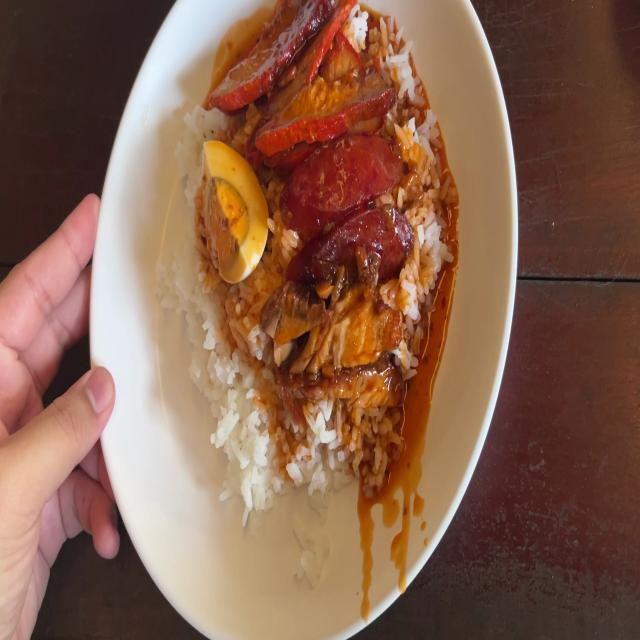red_pork_and_crispy_pork: (203, 138, 267, 281)
stir_fried_basil: (293, 139, 406, 280)
